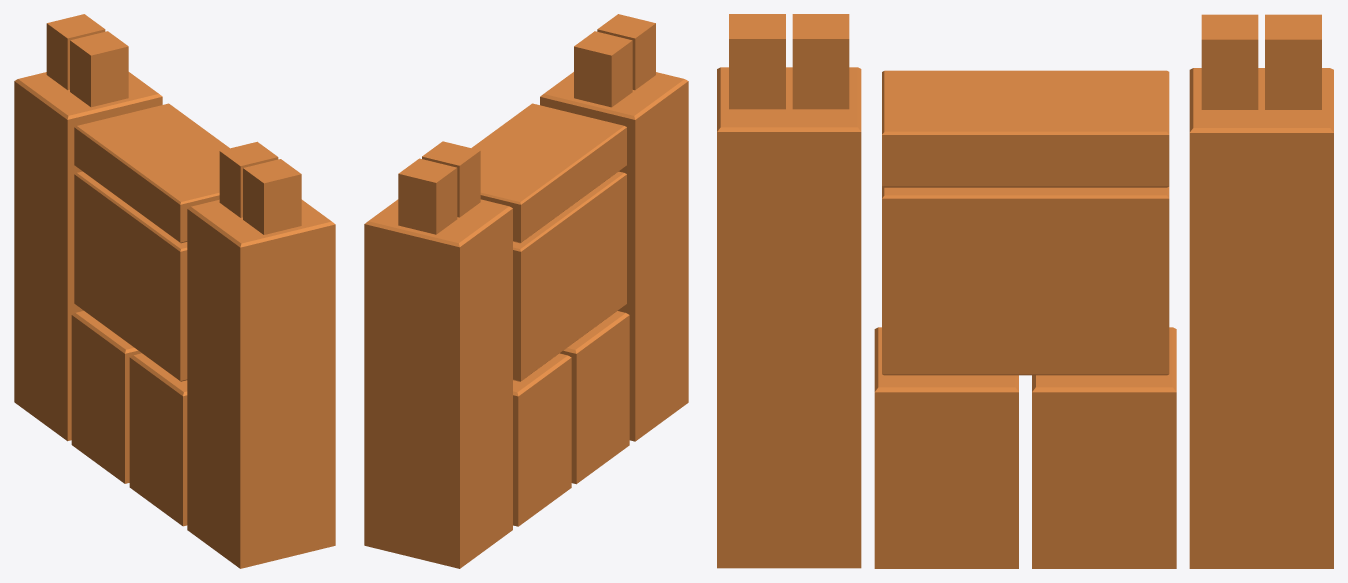
The model's file is speaker_wall__b2585870f31f.glb.
The picture shows the model from 3 angles, left to right: view 1: azimuth 30°, elevation 25°; view 2: azimuth 150°, elevation 25°; view 3: azimuth 270°, elevation 25°; orthographic projection. The views are drawn at different scales.
Parts seen in each view (by area): view 1: upright, upright.001, middle_section, top_slab, lower_companion, lower_block; view 2: upright.001, upright, middle_section, top_slab, lower_block, lower_companion; view 3: upright, upright.001, middle_section, top_slab, lower_block, lower_companion.
Part boxes in pixels (x1,y1,x2,y2): upright: (187,141,335,568); upright.001: (14,14,162,441); middle_section: (74,171,187,381); top_slab: (74,103,229,243); lower_companion: (71,311,141,483); lower_block: (129,353,187,526); upright.001: (364,141,512,568); upright: (540,14,688,441); middle_section: (513,171,626,381); top_slab: (471,103,626,243); lower_block: (560,311,629,484); lower_companion: (513,353,571,526); upright: (717,14,861,568); upright.001: (1189,14,1333,568); middle_section: (882,186,1169,375); top_slab: (882,70,1169,187); lower_block: (874,327,1018,568); lower_companion: (1032,327,1176,568).
Bounding box in the file's own units: 0.1225 × 0.456 × 0.5.
